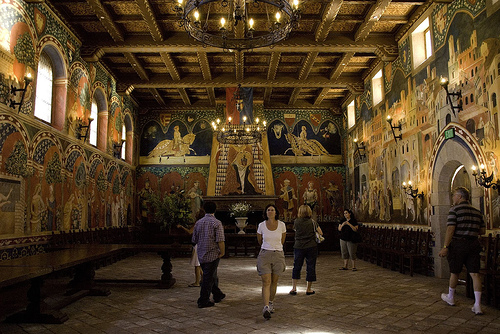without_mask: (263, 204, 281, 223), (342, 209, 353, 221)
